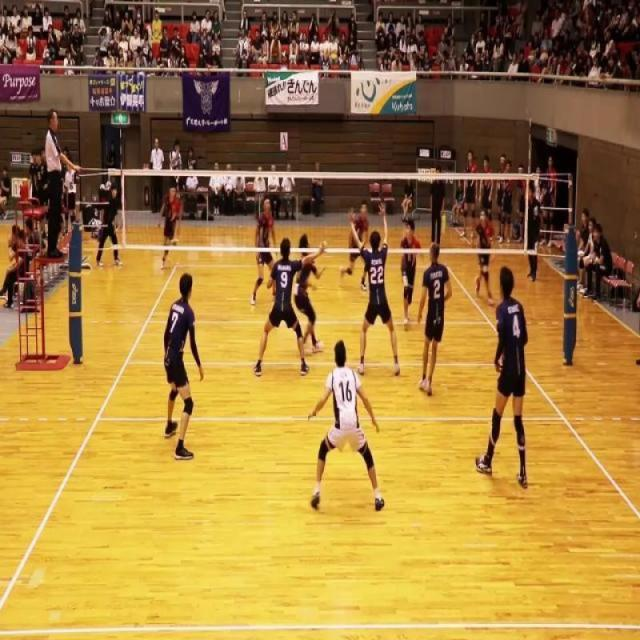volleyball: (322, 40, 332, 59)
